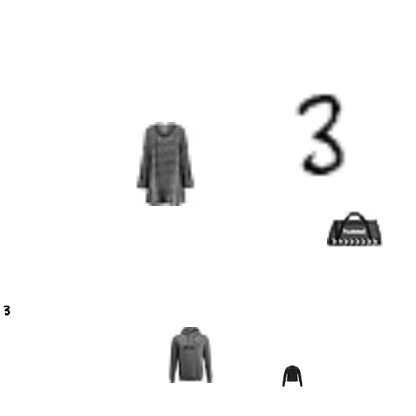3: (264, 79, 376, 191), (0, 303, 14, 317)
Bag: (327, 200, 383, 256)
Coat: (281, 365, 303, 387)
Dress: (122, 122, 206, 206)
Pullover: (163, 327, 219, 383)
